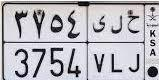3: (14, 10, 28, 78)
4: (67, 10, 82, 77)
5: (50, 14, 64, 77)
7: (31, 9, 46, 79)
J: (127, 15, 140, 73)
L: (111, 15, 123, 72)
V: (92, 15, 105, 73)
